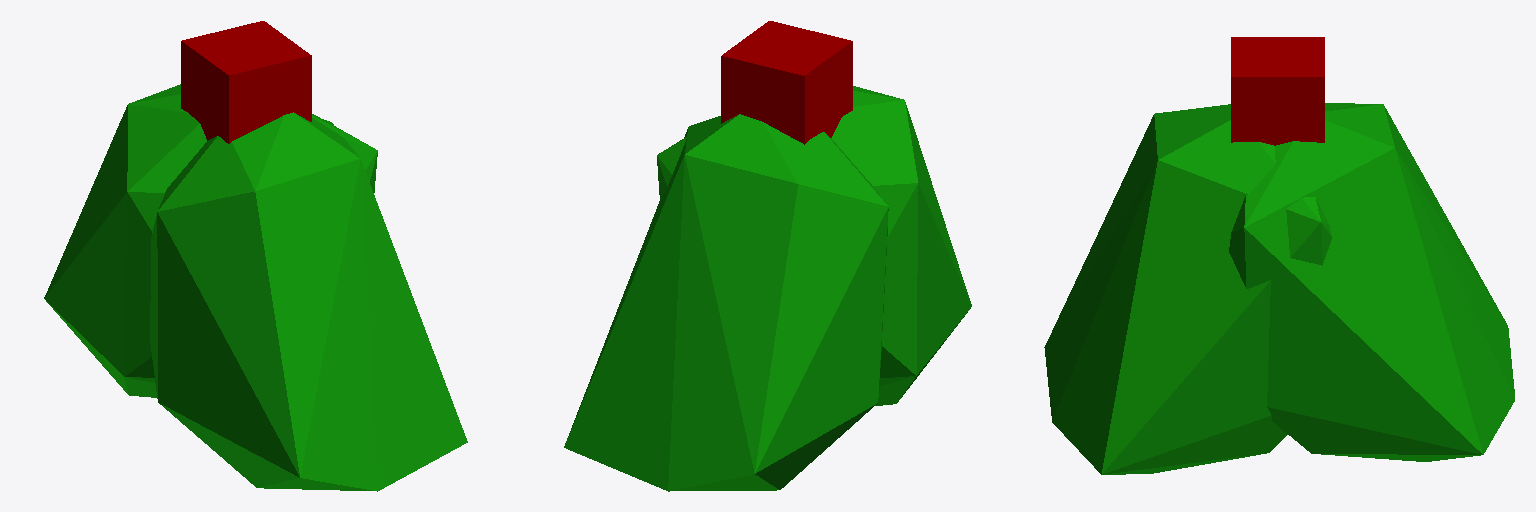
URDF robot description (simple_humanoid_trunk):
<?xml version="1.0" ?>
<robot name="simple_humanoid_trunk">
  <link name="simple_humanoid_trunk_root">
  <inertial>
     <mass value="70"/>
     <inertia ixx="1." ixy="0.0" ixz="0.0" iyy="1." iyz="0.0" izz="1."/>
  </inertial>
    <visual>
      <origin xyz="0 0 0" rpy="0 0 0" />
      <geometry>
        <mesh filename="package://simple-humanoid-rbprm/meshes/robot_trunk_view.dae"/>
      </geometry>
    </visual>
    <collision>
      <origin xyz="0 0 0" rpy="0 0 0" />
      <geometry>
        <mesh filename="package://simple-humanoid-rbprm/meshes/robot_trunk.stl"/>
      </geometry>
    </collision>
  </link>
</robot>

--- Render facts (derived) ---
The picture shows the robot from 3 angles, left to right: view 1: azimuth 30°, elevation 25°; view 2: azimuth 150°, elevation 25°; view 3: azimuth 270°, elevation 25°; orthographic projection.
Model simple_humanoid_trunk with 1 links and 0 joints (none), rooted at simple_humanoid_trunk_root, posed all joints at 0.
Visible links, largest first — view 1: simple_humanoid_trunk_root; view 2: simple_humanoid_trunk_root; view 3: simple_humanoid_trunk_root.
Link boxes in pixels (bbox=[...]): simple_humanoid_trunk_root: bbox=[44, 21, 467, 491]; simple_humanoid_trunk_root: bbox=[564, 21, 971, 491]; simple_humanoid_trunk_root: bbox=[1044, 37, 1514, 474].
Bounding box of the posed robot: 0.8767 × 1.5 × 1.38 m (x, y, z).
Meshes: 1 distinct files referenced, 1 mesh visuals loaded (1 Collada DAE).